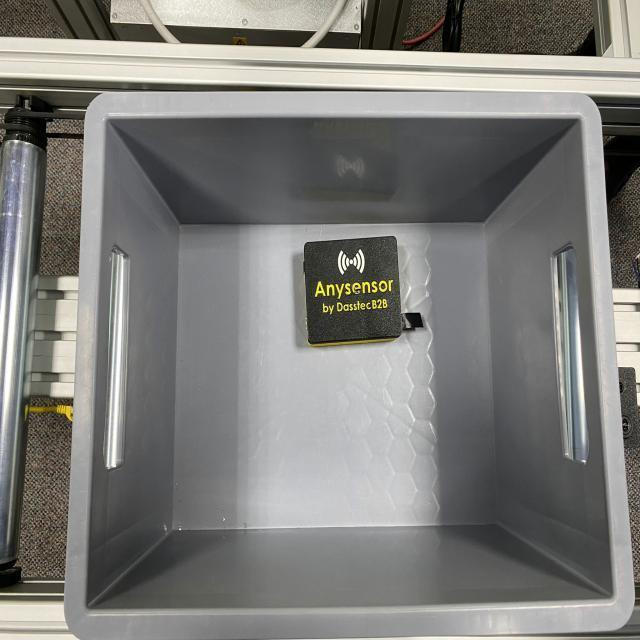box: (307, 233, 400, 344)
